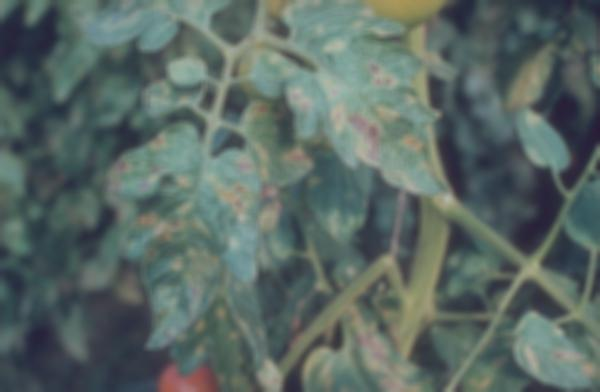Tomato mold leaf: (254, 3, 465, 199), (107, 122, 265, 356), (505, 311, 600, 388), (515, 99, 574, 181), (164, 55, 211, 93)
